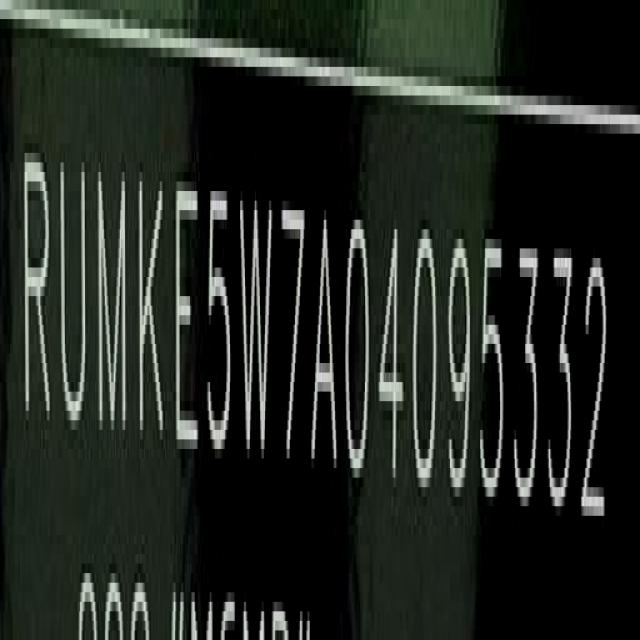0: (346, 211, 372, 488), (414, 224, 438, 499)
2: (584, 251, 612, 530)
3: (546, 233, 574, 514), (515, 234, 540, 516)
4: (380, 221, 407, 497)
5: (208, 185, 234, 470), (480, 228, 504, 506)
7: (282, 195, 310, 482)
9: (447, 236, 474, 498)
A: (312, 210, 341, 486)
E: (176, 178, 203, 466)
K: (136, 172, 166, 458)
M: (94, 164, 132, 448)
R: (24, 151, 55, 438)
U: (56, 156, 89, 442)
W: (236, 188, 273, 474)
